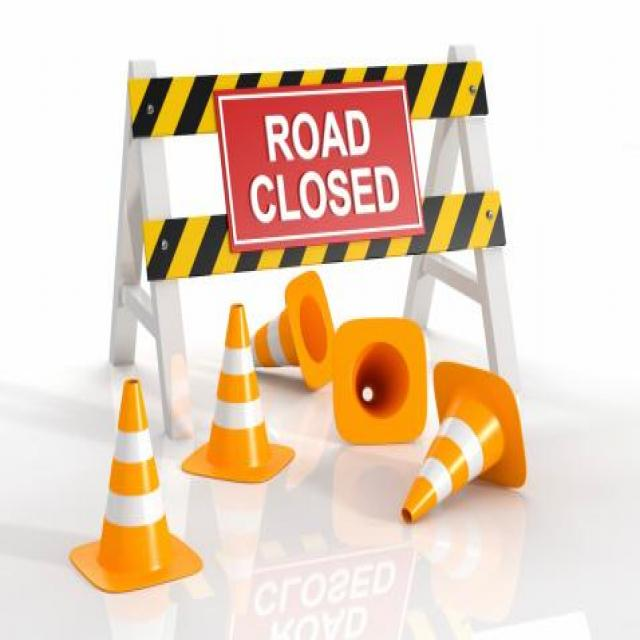Cone: (67, 378, 205, 590), (183, 305, 296, 487), (403, 360, 525, 521), (236, 270, 340, 400), (329, 317, 428, 444)
